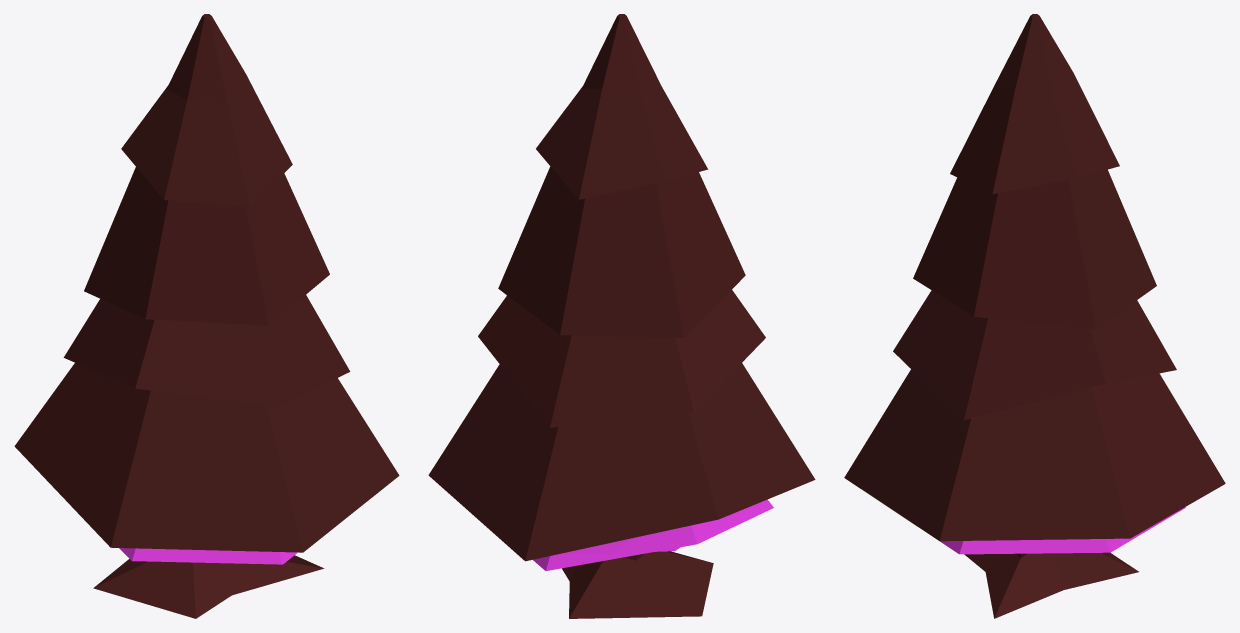
File: pinetrees.fbx
The picture shows the model from 3 angles, left to right: view 1: azimuth 30°, elevation 25°; view 2: azimuth 150°, elevation 25°; view 3: azimuth 270°, elevation 25°; orthographic projection.
Visible parts, largest first — view 1: pinelarge.005, pinesmall.005; view 2: pinelarge.005, pinesmall.005, pinemedium.005; view 3: pinelarge.005, pinesmall.005.
Boxes of the visible parts, <box> form: pinelarge.005: <box>14,14,399,618</box>; pinesmall.005: <box>119,548,297,564</box>; pinelarge.005: <box>428,14,815,618</box>; pinesmall.005: <box>533,499,773,570</box>; pinemedium.005: <box>556,539,680,554</box>; pinelarge.005: <box>844,14,1225,618</box>; pinesmall.005: <box>940,507,1185,554</box>.
Bounding box in the file's own units: 3.18 × 5.91 × 3.68.
